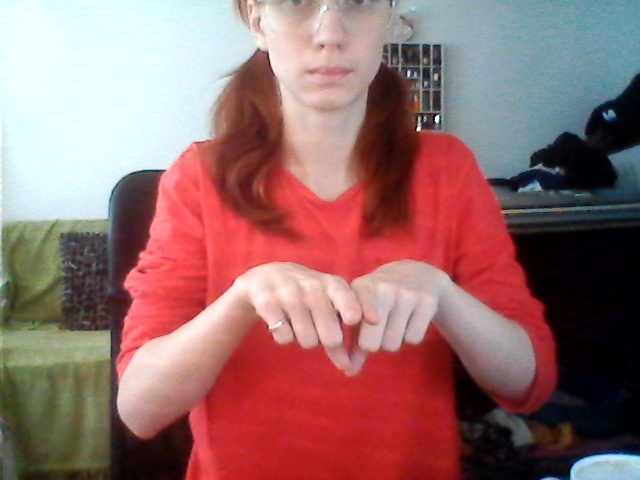sestra: (234, 233, 441, 384)
